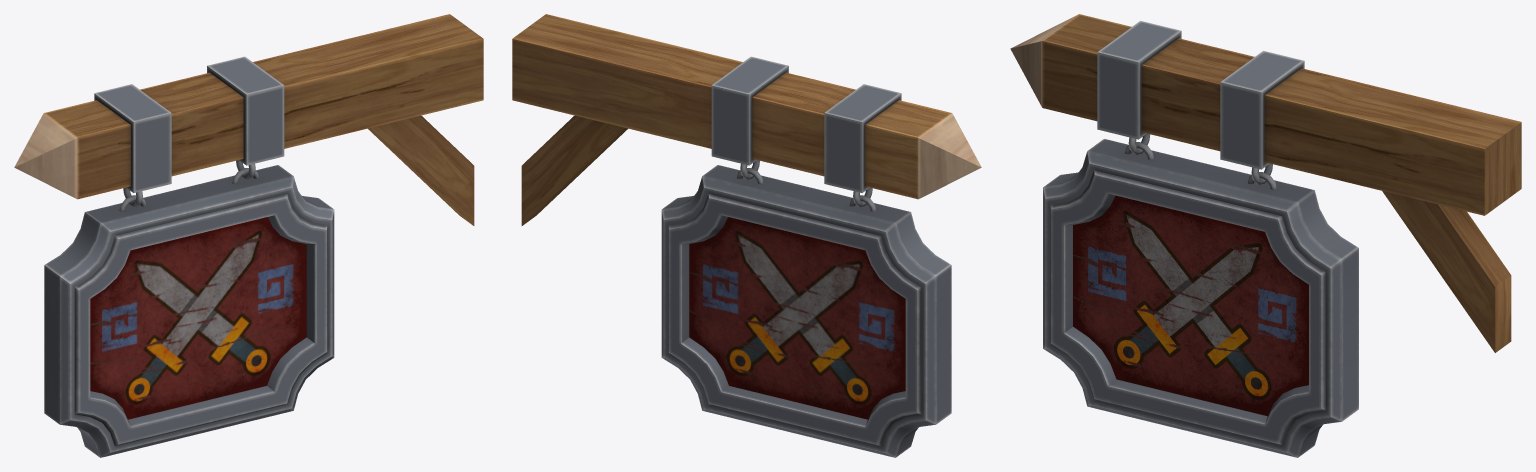
File: sb_obj_outdoor_SignBoard02.fbx
3 renders of one model, left to right at view 1: azimuth 30°, elevation 25°; view 2: azimuth 150°, elevation 25°; view 3: azimuth 330°, elevation 25°, orthographic. The views are drawn at different scales.
Parts seen in each view (by area): view 1: 02; view 2: 02; view 3: 02.
Boxes of the visible parts, x1,y1,x2,y2 form: 02: (14,14,483,457); 02: (512,14,981,457); 02: (1010,14,1521,457).
Bounding box in the file's own units: 1.65 × 1.18 × 0.249.
